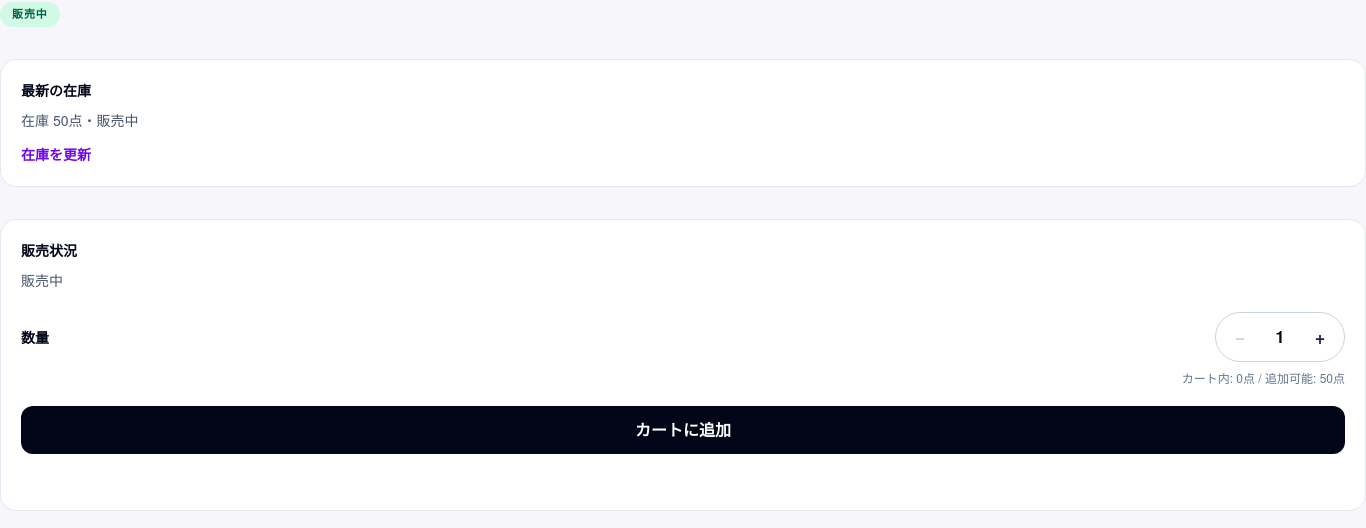
it: InventoryPanel › 再取得した在庫と販売状態をバッジ・数量上限・CTAへ反映する
Expected: the text "在庫 50点・販売中" is shown, x1=21 y1=110 x2=138 y2=130
Expected: the button "カートに追加" is enabled, x1=21 y1=406 x2=1345 y2=454
Click the button "在庫を更新". click: [56, 154]
box: x1=21 y1=144 x2=91 y2=164
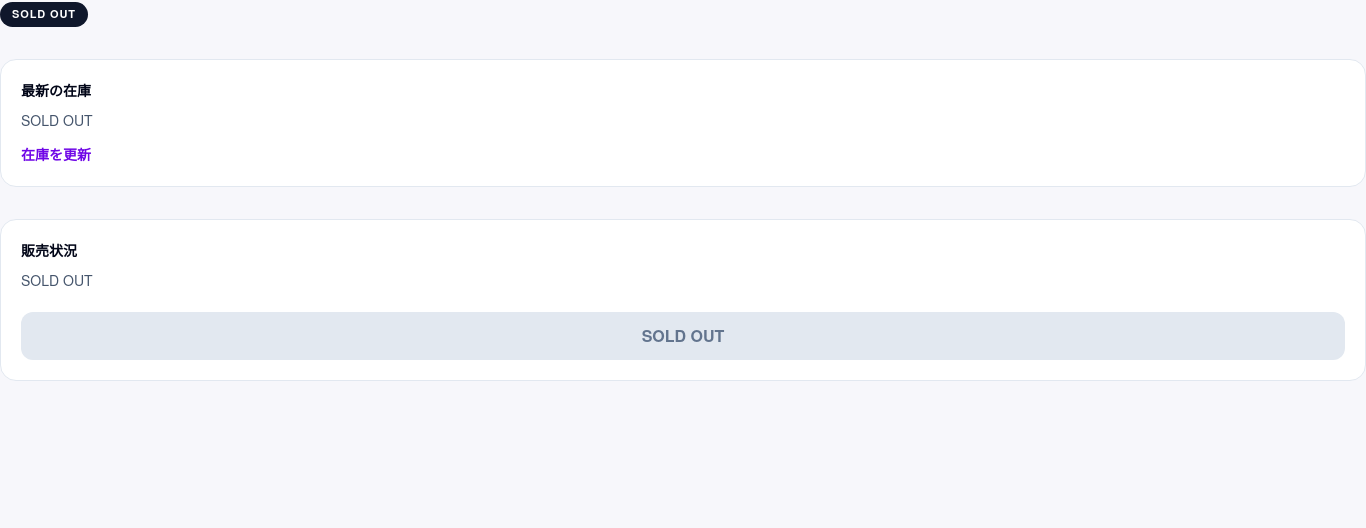
Expected: the button "SOLD OUT" is disabled, x1=21 y1=312 x2=1345 y2=360
Expected: the button "カートに追加" is gone
Expected: the text "販売中" is gone
